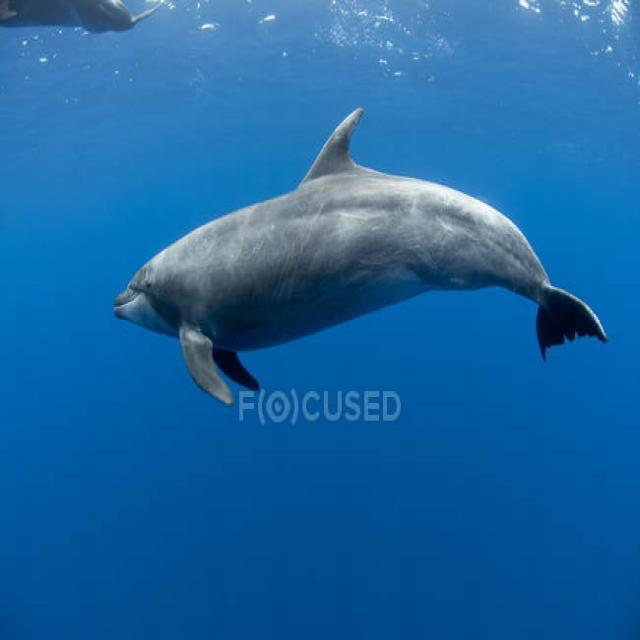dolphin: (104, 120, 616, 378)
